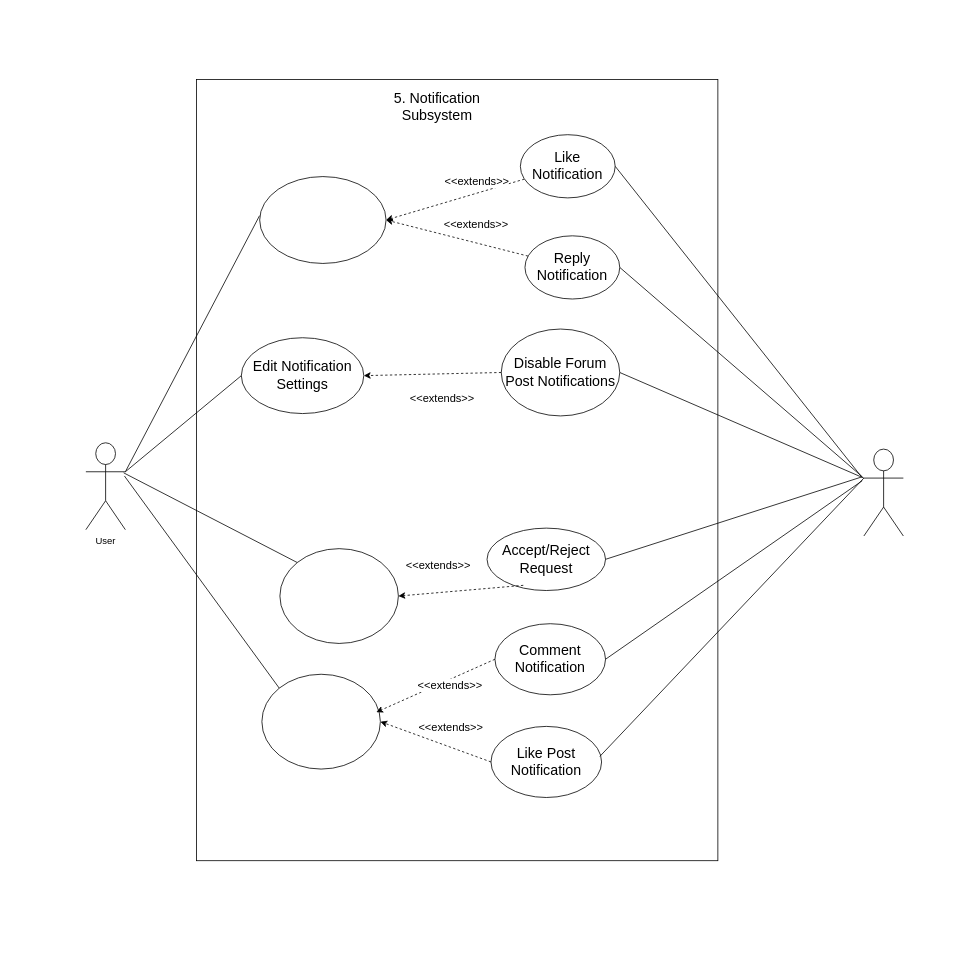
The diagram is 975 pixels wide and 959 high, and some of its shapes have lost their labels. Each missing label, with the centre of its shape:
"Database" goes at [883,492].
"View Follow Request Notifications" goes at [338,595].
"View Forum Message Notification" goes at [322,219].
"View Post Notification" goes at [320,721].
